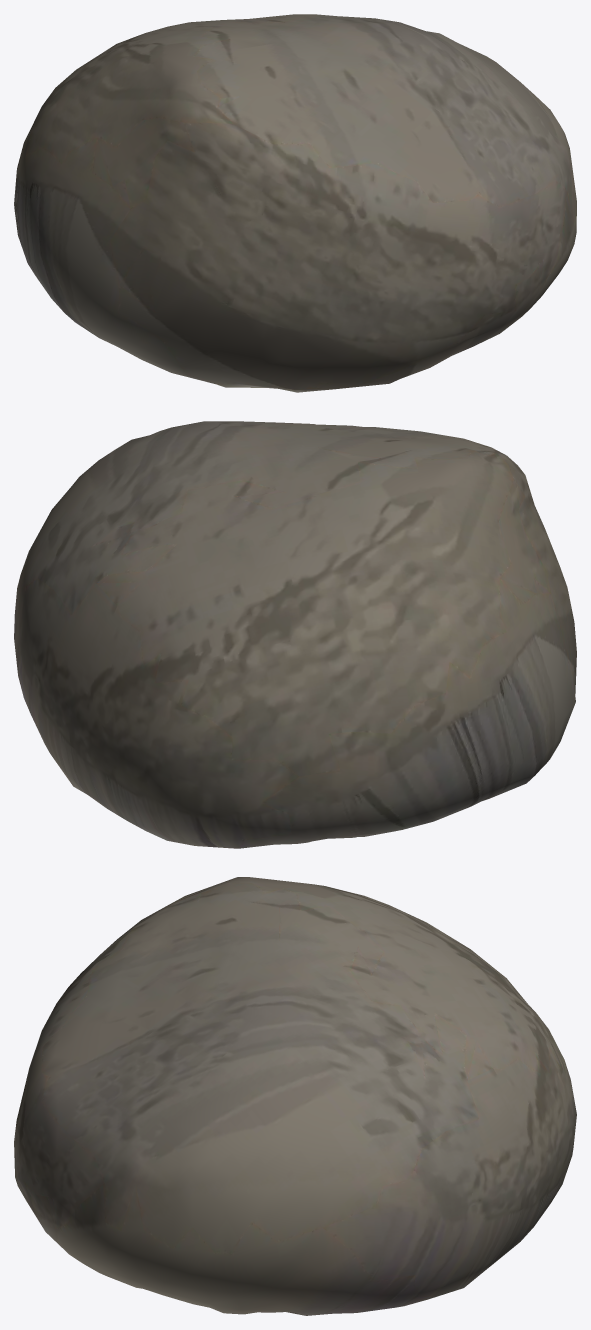
Rendered from toad-prop-rock-lift.glb.
3 views of the same model, one above another, from view 1: azimuth 30°, elevation 25°; view 2: azimuth 150°, elevation 25°; view 3: azimuth 270°, elevation 25° (orthographic). The views are drawn at different scales.
Parts seen in each view (by area): view 1: geometry_0; view 2: geometry_0; view 3: geometry_0.
Part boxes in pixels (x1=…): geometry_0: x1=14, y1=14, x2=576, y2=392; geometry_0: x1=14, y1=421, x2=576, y2=848; geometry_0: x1=14, y1=877, x2=576, y2=1315.
Bounding box in the file's own units: 0.1 × 0.06 × 0.0998.
1 material, 1 textured.
